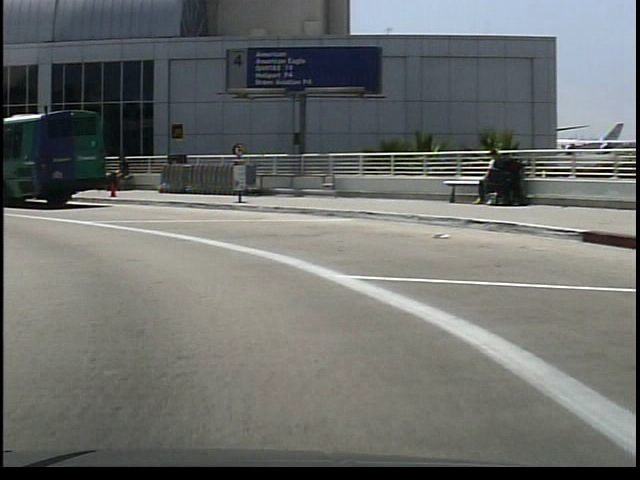person: (106, 151, 130, 195)
